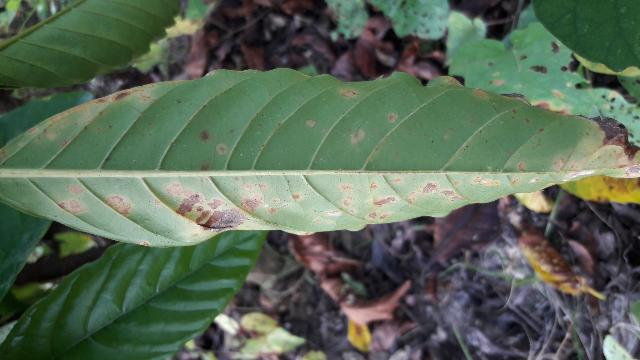red_spider_mite: (0, 66, 636, 245)
